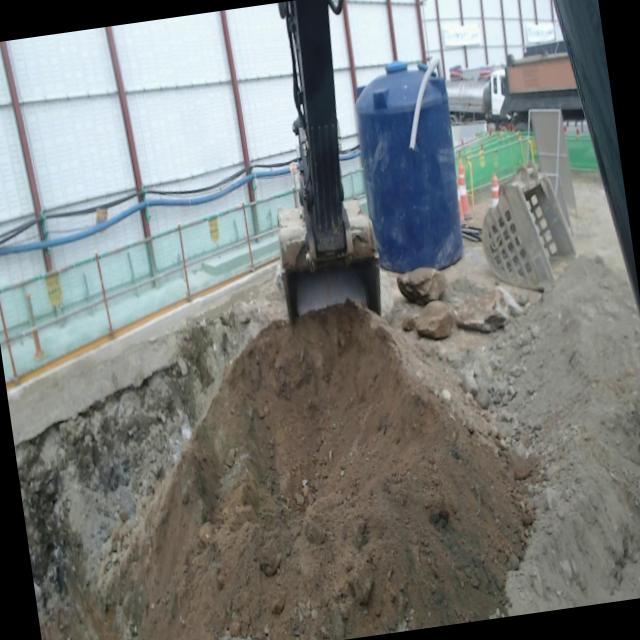red-sand: (41, 304, 534, 640)
stone: (454, 286, 522, 333), (397, 267, 447, 306), (413, 300, 456, 340)
white-sand: (495, 257, 640, 616)
